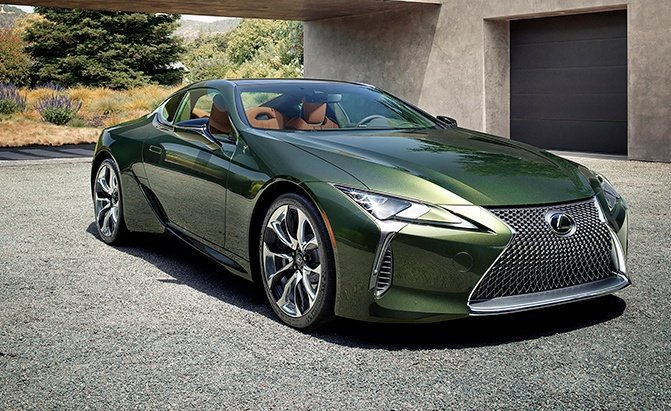car: (87, 71, 632, 342)
